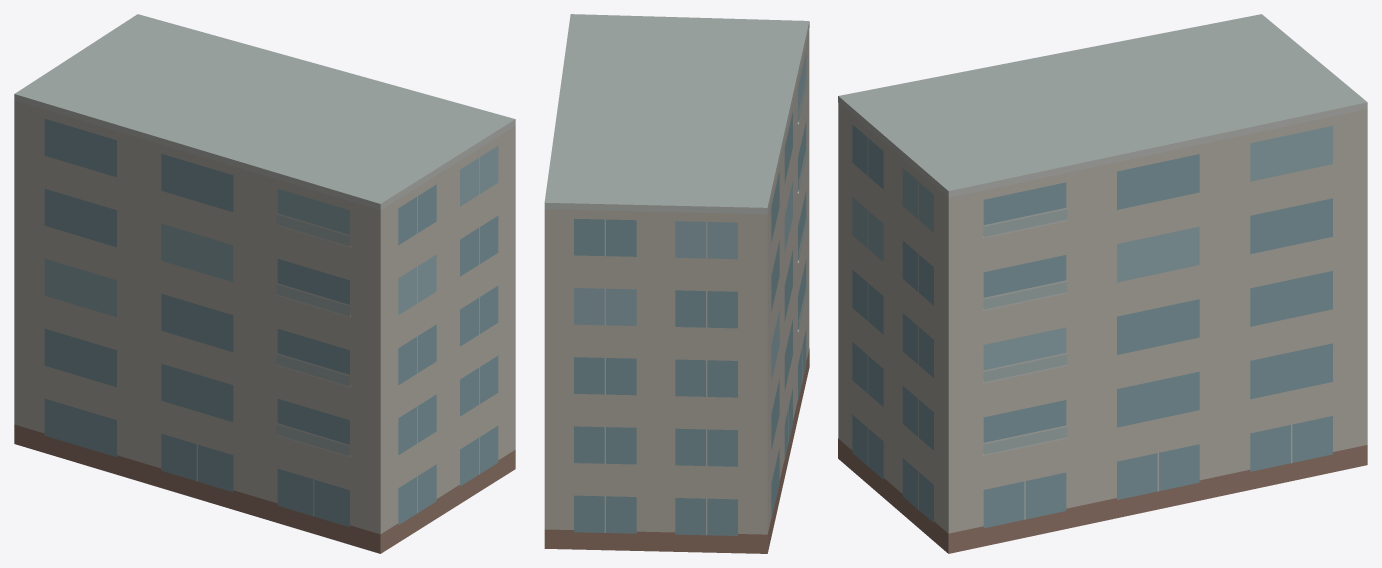
File: survey-upis-32960854.glb
3 renders of one model, left to right at view 1: azimuth 30°, elevation 25°; view 2: azimuth 150°, elevation 25°; view 3: azimuth 270°, elevation 25°, orthographic. The views are drawn at different scales.
Parts seen in each view (by area): view 1: survey-upis-32960854.tmp; view 2: survey-upis-32960854.tmp; view 3: survey-upis-32960854.tmp.
Part boxes in pixels (left/top/right/bottom): survey-upis-32960854.tmp: left=14, top=14, right=515, bottom=553; survey-upis-32960854.tmp: left=544, top=14, right=809, bottom=553; survey-upis-32960854.tmp: left=838, top=14, right=1367, bottom=553.
Size of the model in its own units: 13.84 by 13.2 by 17.47.
